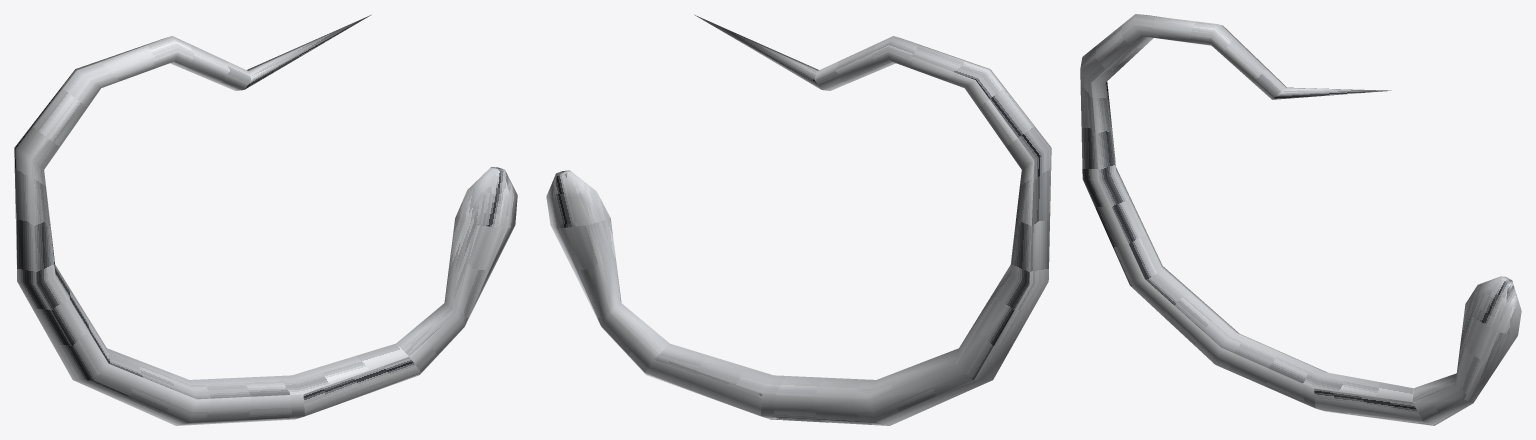
Rendered from snake_000045.obj.
3 views of the same model, side by side, from view 1: azimuth 30°, elevation 25°; view 2: azimuth 150°, elevation 25°; view 3: azimuth 330°, elevation 25° (orthographic). The views are drawn at different scales.
Parts seen in each view (by area): view 1: Cylinder; view 2: Cylinder; view 3: Cylinder.
Part boxes in pixels (x1,y1,x2,y2): Cylinder: (14,14,517,425); Cylinder: (546,14,1051,425); Cylinder: (1080,14,1521,425).
Size of the model in its own units: 4.95 by 3.9 by 0.3671.
